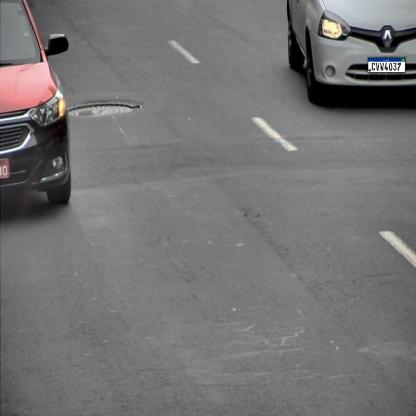PlacaM: (368, 57, 405, 73)
